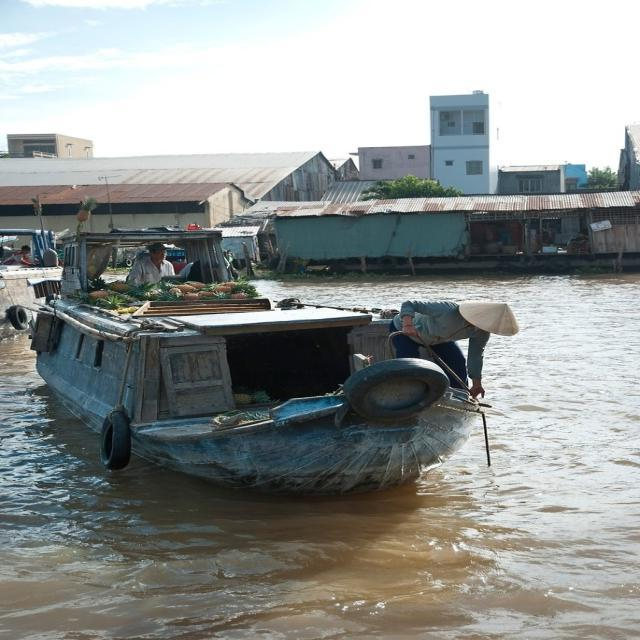boat: (40, 224, 468, 500)
